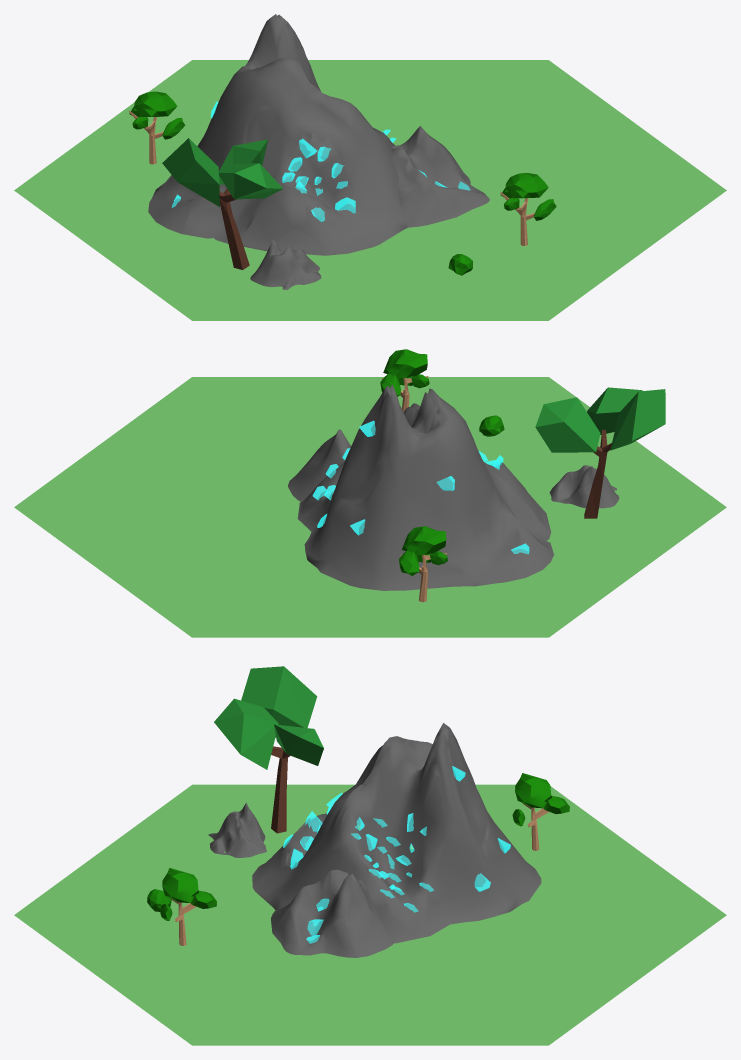
The model's file is Hexagone ressource diamand.fbx.
3 renders of one model, top to bottom at view 1: azimuth 30°, elevation 25°; view 2: azimuth 150°, elevation 25°; view 3: azimuth 270°, elevation 25°, orthographic.
Visible parts, largest first — view 1: Cylinder; view 2: Cylinder; view 3: Cylinder.
Part boxes in pixels (box(x1,y1,x2,y2)): Cylinder: box(14, 14, 726, 320); Cylinder: box(14, 349, 726, 637); Cylinder: box(14, 666, 726, 1045).
Bounding box in the file's own units: 17.32 × 20 × 5.23.
